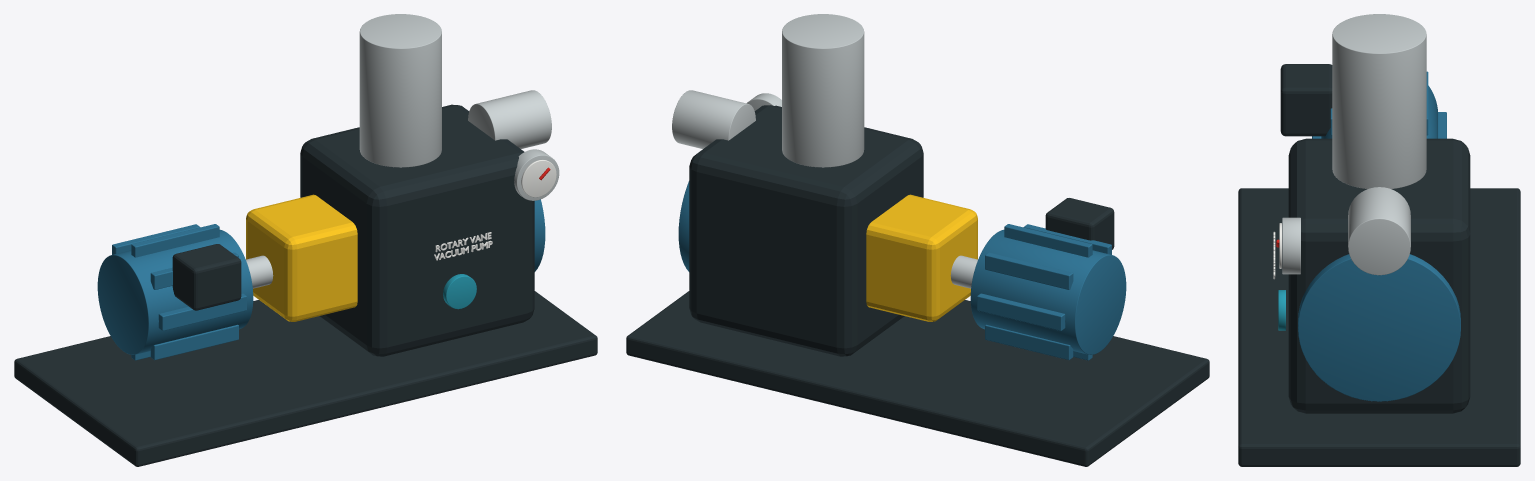
Rendered from rotary_vane_vacuum_pump.glb.
The picture shows the model from 3 angles, left to right: view 1: azimuth 30°, elevation 25°; view 2: azimuth 150°, elevation 25°; view 3: azimuth 270°, elevation 25°; orthographic projection. The views are drawn at different scales.
Visible parts, largest first — view 1: BASE, ROTARY_VANE_PUMP_BODY, EXHAUST_MIST_FILTER, COUPLING_GUARD, KIN_MOTOR_SHAFT, KIN_MOTOR_SHAFT_JBOX, VACUUM_INLET, KIN_MOTOR_SHAFT_FIN_5, KIN_MOTOR_SHAFT_FIN_4, KIN_MOTOR_SHAFT_FIN_2, GAUGE_FACE, OIL_SIGHT_GLASS (+4 smaller); view 2: BASE, ROTARY_VANE_PUMP_BODY, EXHAUST_MIST_FILTER, COUPLING_GUARD, KIN_MOTOR_SHAFT, VACUUM_INLET, KIN_MOTOR_SHAFT_JBOX, KIN_MOTOR_SHAFT_FIN_0, KIN_MOTOR_SHAFT_FIN_1, KIN_MOTOR_SHAFT_FIN_7, KIN_MOTOR_SHAFT_FIN_2, PUMP_END_COVER (+1 smaller); view 3: BASE, ROTARY_VANE_PUMP_BODY, PUMP_END_COVER, EXHAUST_MIST_FILTER, VACUUM_INLET, KIN_MOTOR_SHAFT_JBOX, GAUGE_BODY, KIN_MOTOR_SHAFT, OIL_SIGHT_GLASS.
Part boxes in pixels (bbox=[...]): BASE: bbox=[14, 291, 597, 466]; ROTARY_VANE_PUMP_BODY: bbox=[300, 104, 534, 356]; EXHAUST_MIST_FILTER: bbox=[359, 14, 441, 167]; COUPLING_GUARD: bbox=[246, 194, 357, 321]; KIN_MOTOR_SHAFT: bbox=[97, 229, 253, 354]; KIN_MOTOR_SHAFT_JBOX: bbox=[172, 244, 241, 310]; VACUUM_INLET: bbox=[468, 90, 551, 148]; KIN_MOTOR_SHAFT_FIN_5: bbox=[150, 324, 238, 360]; KIN_MOTOR_SHAFT_FIN_4: bbox=[158, 293, 246, 330]; KIN_MOTOR_SHAFT_FIN_2: bbox=[131, 224, 219, 257]; GAUGE_FACE: bbox=[521, 159, 556, 197]; OIL_SIGHT_GLASS: bbox=[443, 274, 476, 309]; BASE: bbox=[626, 291, 1209, 466]; ROTARY_VANE_PUMP_BODY: bbox=[689, 105, 923, 356]; EXHAUST_MIST_FILTER: bbox=[782, 14, 864, 167]; COUPLING_GUARD: bbox=[866, 194, 977, 321]; KIN_MOTOR_SHAFT: bbox=[970, 229, 1126, 354]; VACUUM_INLET: bbox=[672, 90, 755, 148]; KIN_MOTOR_SHAFT_JBOX: bbox=[1045, 198, 1114, 249]; KIN_MOTOR_SHAFT_FIN_0: bbox=[977, 293, 1065, 330]; KIN_MOTOR_SHAFT_FIN_1: bbox=[985, 252, 1073, 289]; KIN_MOTOR_SHAFT_FIN_7: bbox=[985, 324, 1073, 360]; KIN_MOTOR_SHAFT_FIN_2: bbox=[1004, 224, 1092, 257]; PUMP_END_COVER: bbox=[678, 181, 689, 271]; BASE: bbox=[1238, 188, 1520, 466]; ROTARY_VANE_PUMP_BODY: bbox=[1288, 138, 1470, 413]; PUMP_END_COVER: bbox=[1298, 254, 1460, 401]; EXHAUST_MIST_FILTER: bbox=[1332, 14, 1426, 189]; VACUUM_INLET: bbox=[1348, 187, 1410, 275]; KIN_MOTOR_SHAFT_JBOX: bbox=[1280, 64, 1332, 136]; GAUGE_BODY: bbox=[1282, 217, 1300, 274]; KIN_MOTOR_SHAFT: bbox=[1321, 85, 1437, 138]; OIL_SIGHT_GLASS: bbox=[1278, 290, 1285, 330].
Size of the model in its own units: 1.96 by 1.26 by 0.9.
